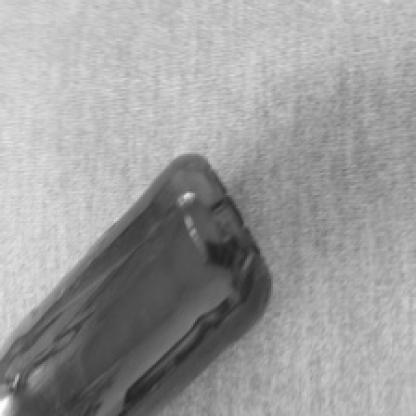plastic_bottles: (0, 152, 287, 416)
